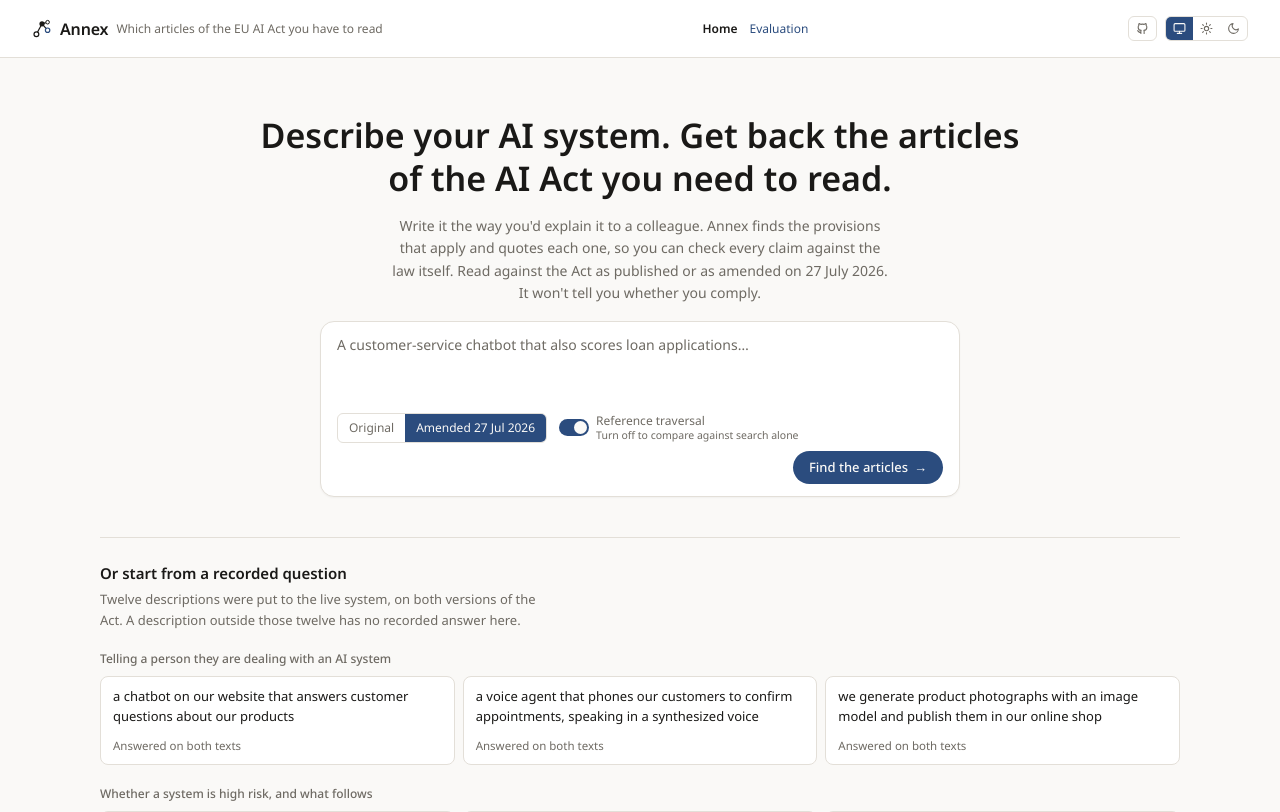
the invalid state › clears the message as soon as the description becomes valid
Click the button "Find the articles →" at (868, 467), box [793,451,943,484]
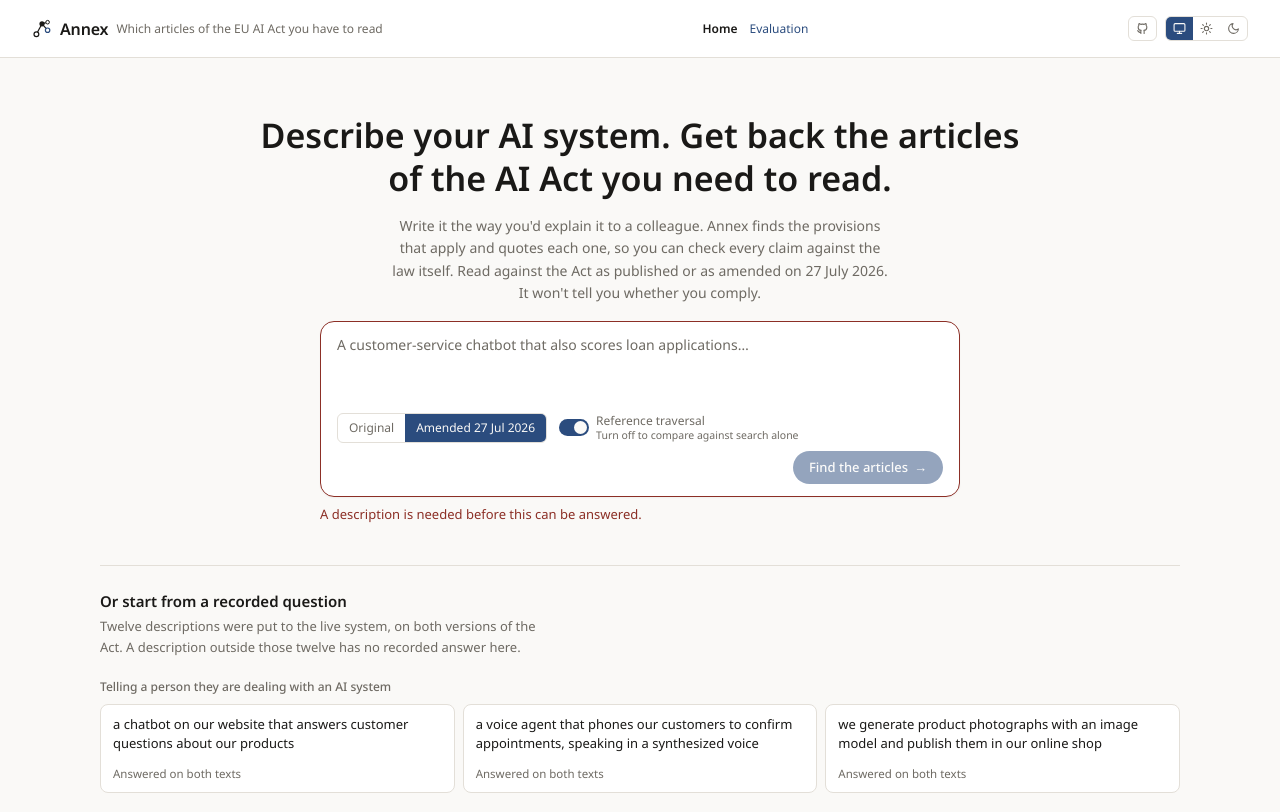
Type "a chatbot" into the text box named "Describe your system" at (640, 367), box [337,334,943,401]
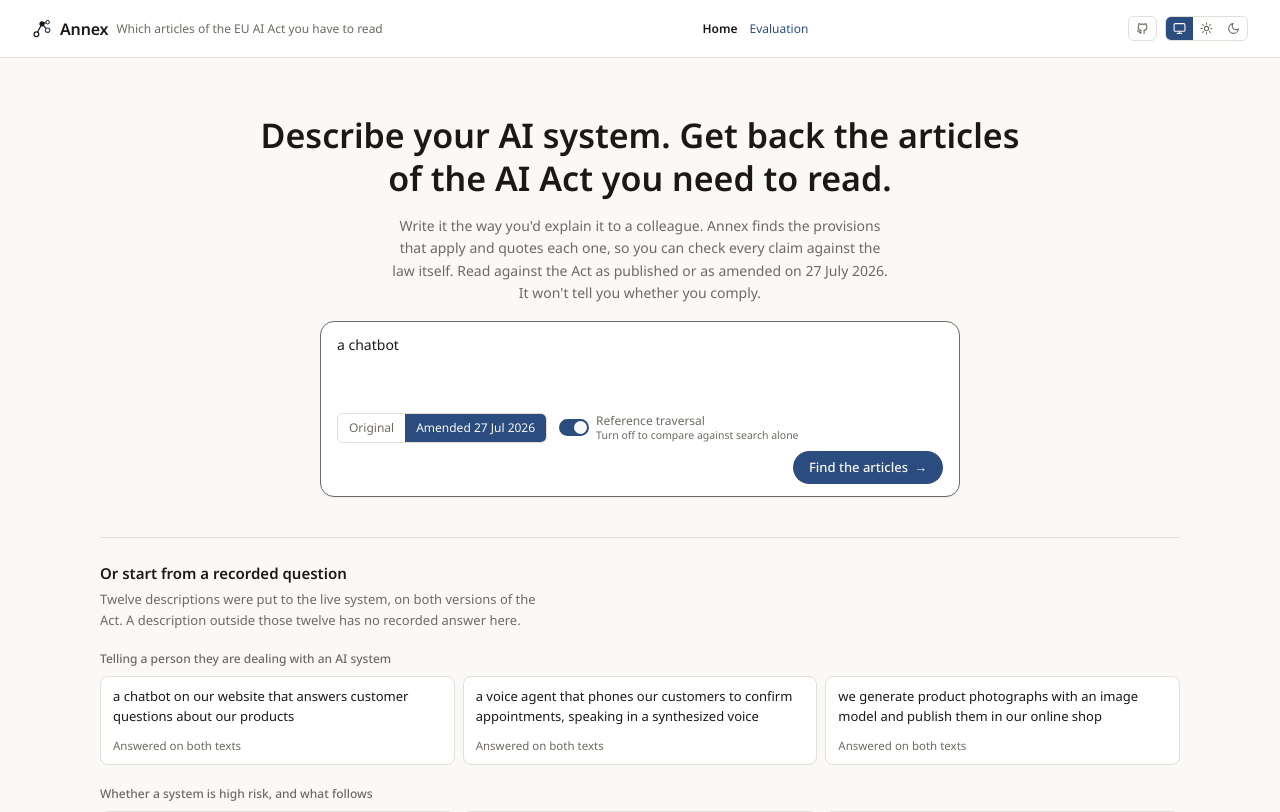
Expected: the text "A description is needed before this can be answered." is gone
